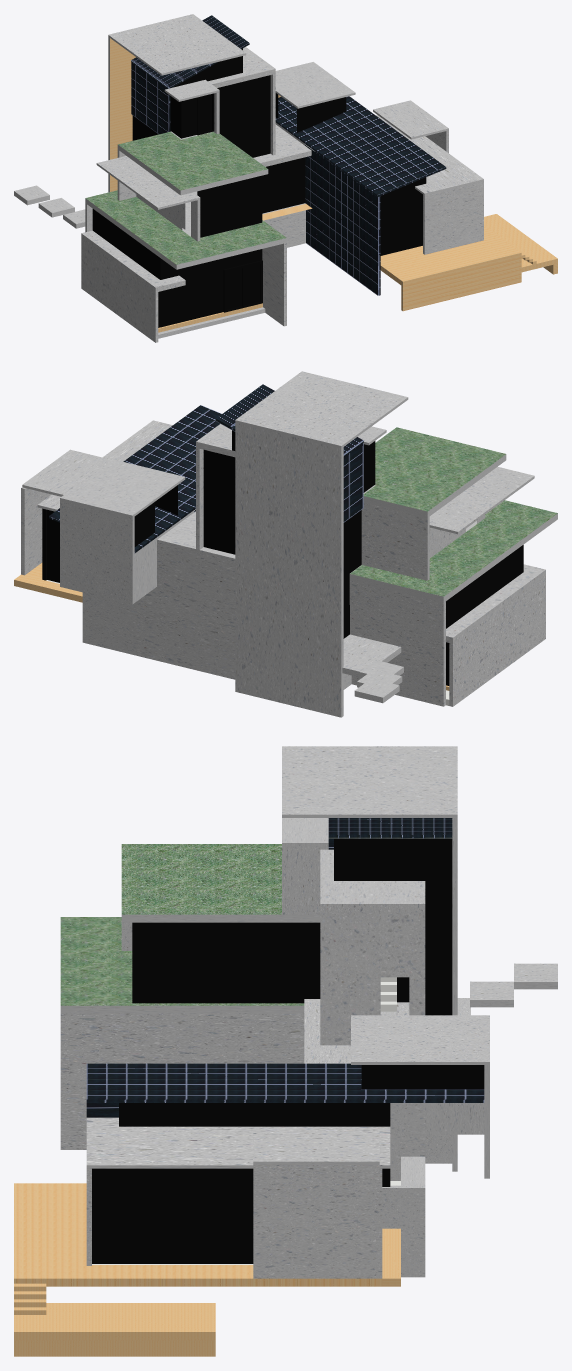
File: camo-cafe.gltf
The picture shows the model from 3 angles, top to bottom: view 1: azimuth 30°, elevation 25°; view 2: azimuth 150°, elevation 25°; view 3: azimuth 270°, elevation 25°; orthographic projection. The views are drawn at different scales.
Visible parts, largest first — view 1: オブジェクト_61, オブジェクト_42, オブジェクト_175, オブジェクト_192, オブジェクト_199, オブジェクト_219, オブジェクト_49, オブジェクト_51, オブジェクト_123, オブジェクト_50, オブジェクト_119, オブジェクト_59 (+33 smaller); view 2: オブジェクト_196, オブジェクト_36, オブジェクト_105, オブジェクト_199, オブジェクト_175, オブジェクト_211, オブジェクト_219, オブジェクト_192, オブジェクト_61, オブジェクト_87, オブジェクト_217, オブジェクト_115 (+28 smaller); view 3: オブジェクト_54, オブジェクト_124, オブジェクト_52, オブジェクト_5, オブジェクト_61, オブジェクト_49, オブジェクト_199, オブジェクト_175, オブジェクト_113, オブジェクト_60, オブジェクト_44, オブジェクト_192 (+23 smaller).
Boxes of the visible parts, box(x1,y1,x2,y2) form: オブジェクト_61: box(275, 96, 446, 196); オブジェクト_42: box(304, 144, 380, 295); オブジェクト_175: box(118, 131, 267, 190); オブジェクト_192: box(85, 190, 286, 264); オブジェクト_199: box(108, 14, 245, 73); オブジェクト_219: box(81, 238, 158, 342); オブジェクト_49: box(380, 225, 521, 286); オブジェクト_51: box(423, 181, 483, 254); オブジェクト_123: box(217, 75, 270, 157); オブジェクト_50: box(401, 257, 521, 311); オブジェクト_119: box(197, 175, 262, 237); オブジェクト_59: box(380, 177, 426, 255); オブジェクト_196: box(235, 422, 341, 717); オブジェクト_36: box(131, 546, 235, 679); オブジェクト_105: box(349, 580, 445, 706); オブジェクト_199: box(235, 371, 407, 445); オブジェクト_175: box(363, 427, 505, 511); オブジェクト_211: box(60, 500, 132, 604); オブジェクト_219: box(449, 576, 545, 706); オブジェクト_192: box(350, 500, 557, 596); オブジェクト_61: box(49, 405, 221, 553); オブジェクト_87: box(361, 502, 429, 580); オブジェクト_217: box(60, 459, 184, 515); オブジェクト_115: box(203, 450, 235, 554); オブジェクト_54: box(92, 1168, 253, 1263); オブジェクト_124: box(132, 922, 320, 1003); オブジェクト_52: box(253, 1162, 382, 1278); オブジェクト_5: box(60, 1013, 304, 1149); オブジェクト_61: box(86, 1063, 484, 1102); オブジェクト_49: box(14, 1183, 382, 1286); オブジェクト_199: box(282, 746, 457, 814); オブジェクト_175: box(121, 844, 281, 914); オブジェクト_113: box(320, 912, 425, 1045); オブジェクト_60: box(86, 1117, 390, 1168); オブジェクト_44: box(14, 1303, 215, 1340); オブジェクト_192: box(60, 917, 304, 1005).
Bounding box in the file's own units: 20.08 × 10.99 × 15.18.
8 materials, 5 textured.
